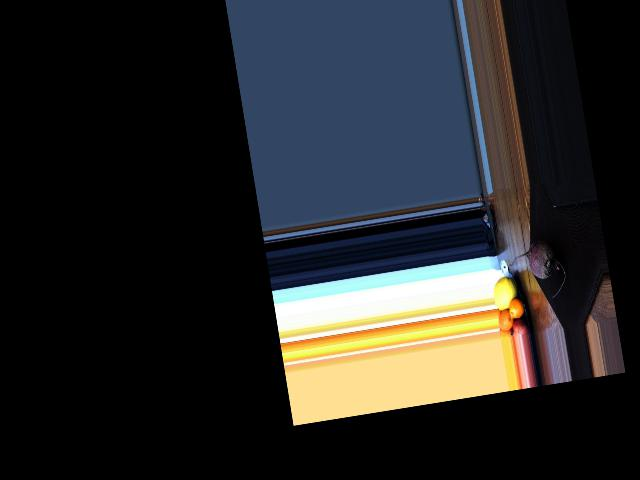beet: (509, 237, 569, 303)
